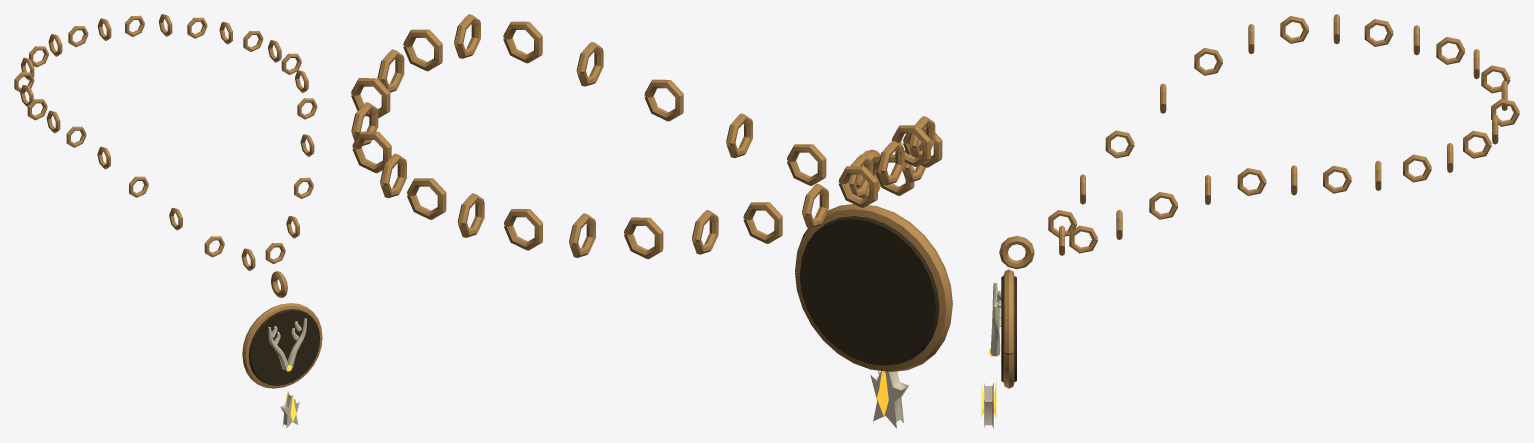
File: asc_wildroot_hunter_accessory.glb
3 renders of one model, left to right at view 1: azimuth 30°, elevation 25°; view 2: azimuth 150°, elevation 25°; view 3: azimuth 270°, elevation 25°, orthographic. The views are drawn at different scales.
Visible parts, largest first — view 1: asc_wildroot_hunter_accessory; view 2: asc_wildroot_hunter_accessory; view 3: asc_wildroot_hunter_accessory.
Boxes of the visible parts, <box> form: asc_wildroot_hunter_accessory: <box>14,14,322,428</box>; asc_wildroot_hunter_accessory: <box>351,14,952,428</box>; asc_wildroot_hunter_accessory: <box>981,14,1519,428</box>.
Size of the model in its own units: 0.3419 by 0.3283 by 0.4777.
